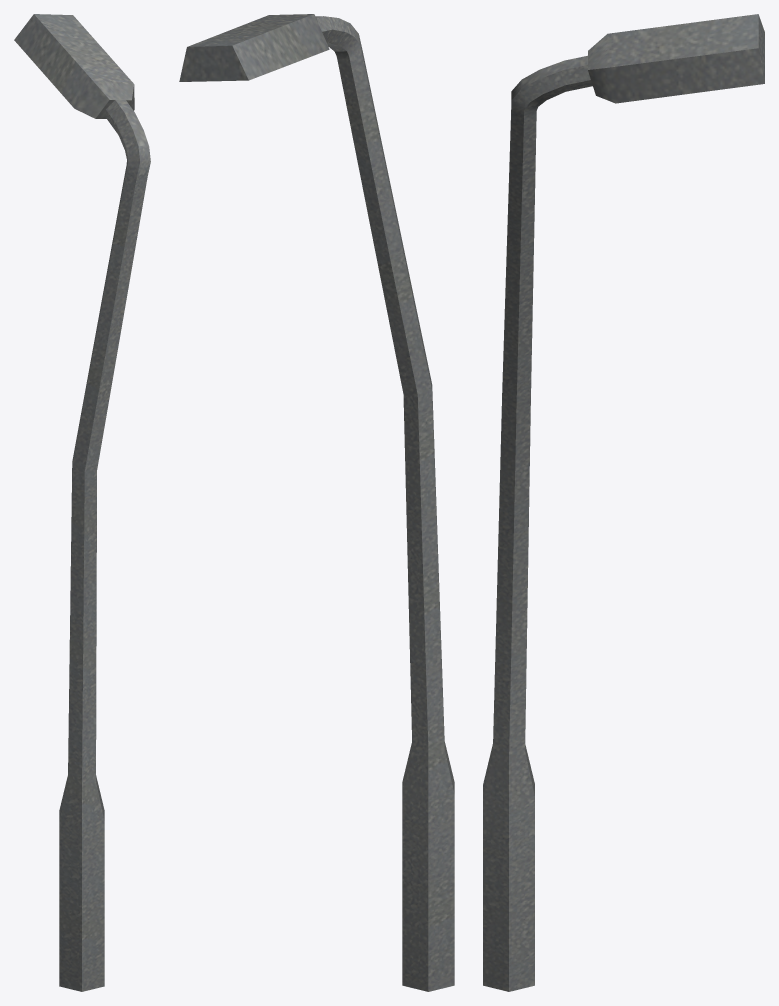
Rendered from lamp2.obj.
3 views of the same model, side by side, from view 1: azimuth 30°, elevation 25°; view 2: azimuth 150°, elevation 25°; view 3: azimuth 270°, elevation 25° (orthographic). The views are drawn at different scales.
Parts seen in each view (by area): view 1: Misc lamp_new_ok1 polySurface1; view 2: Misc lamp_new_ok1 polySurface1; view 3: Misc lamp_new_ok1 polySurface1.
Part boxes in pixels (x1=…): Misc lamp_new_ok1 polySurface1: x1=14, y1=14, x2=150, y2=991; Misc lamp_new_ok1 polySurface1: x1=179, y1=14, x2=454, y2=991; Misc lamp_new_ok1 polySurface1: x1=483, y1=14, x2=764, y2=991.
Size of the model in its own units: 0.9854 by 6.49 by 1.66.
Materials: 1 (1 with a texture image).
